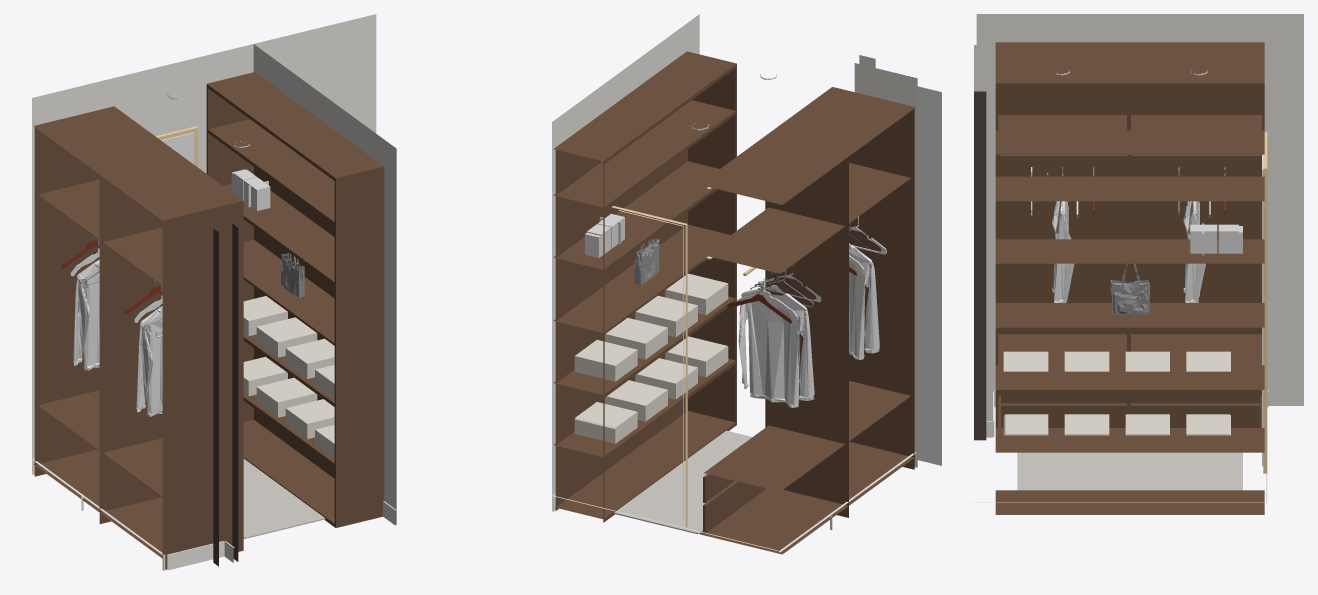
The model's file is DRESS.glb.
The picture shows the model from 3 angles, left to right: view 1: azimuth 30°, elevation 25°; view 2: azimuth 150°, elevation 25°; view 3: azimuth 270°, elevation 25°; orthographic projection. The views are drawn at different scales.
Parts seen in each view (by area): view 1: WEB_DRESS; view 2: WEB_DRESS; view 3: WEB_DRESS.
Part boxes in pixels (x1,y1,x2,y2): WEB_DRESS: (31, 14, 396, 570); WEB_DRESS: (551, 14, 941, 554); WEB_DRESS: (970, 14, 1303, 514).
Size of the model in its own units: 2.5 by 2.5 by 1.93.
